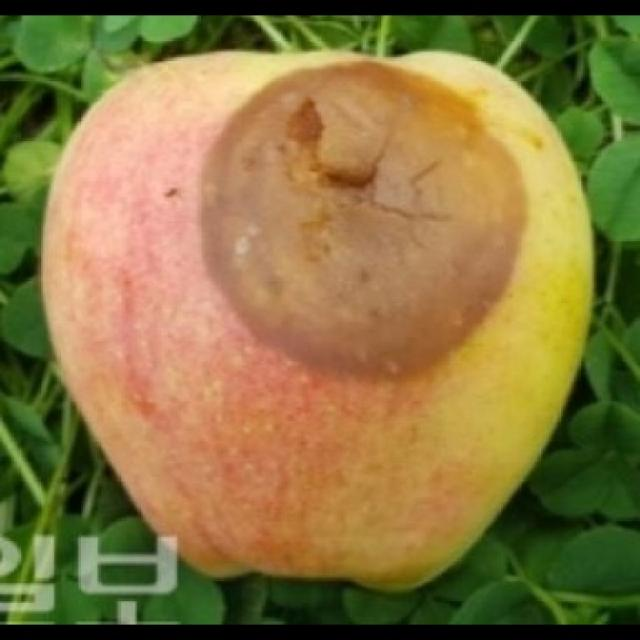Rotten Apple: (34, 42, 598, 589)
